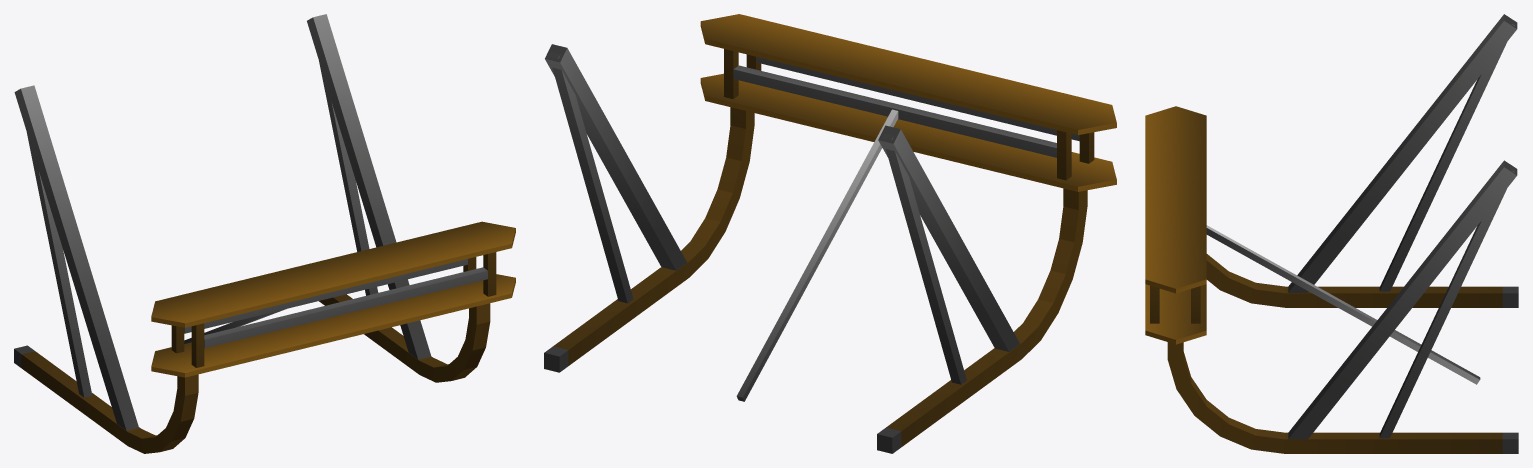
Rendered from Alas2.obj.
3 renders of one model, left to right at view 1: azimuth 30°, elevation 25°; view 2: azimuth 150°, elevation 25°; view 3: azimuth 270°, elevation 25°, orthographic. The views are drawn at different scales.
Visible parts, largest first — view 1: Alas2; view 2: Alas2; view 3: Alas2.
Part boxes in pixels (x1=…): Alas2: x1=14, y1=14, x2=515, y2=453; Alas2: x1=544, y1=14, x2=1116, y2=453; Alas2: x1=1145, y1=14, x2=1518, y2=453.
Bounding box in the file's own units: 26.52 × 19.83 × 22.91.
1 material, 1 textured.
